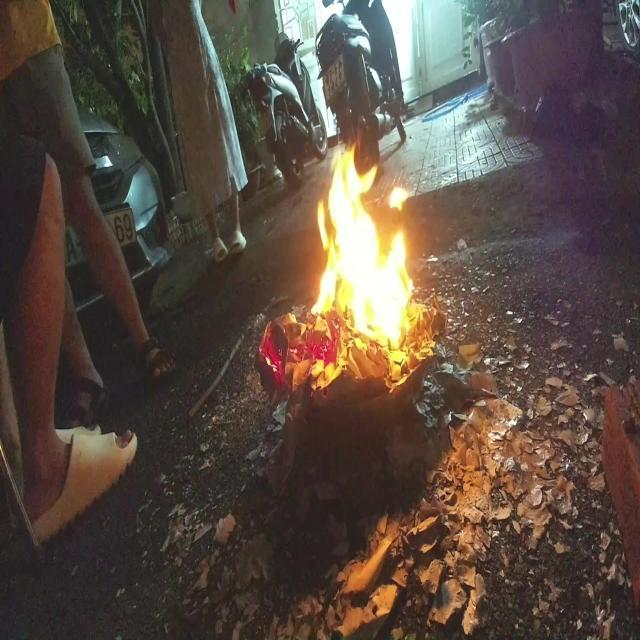Fire: (310, 139, 416, 348)
